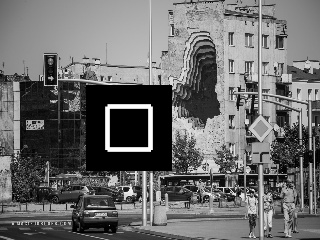square: (86, 85, 171, 171)
